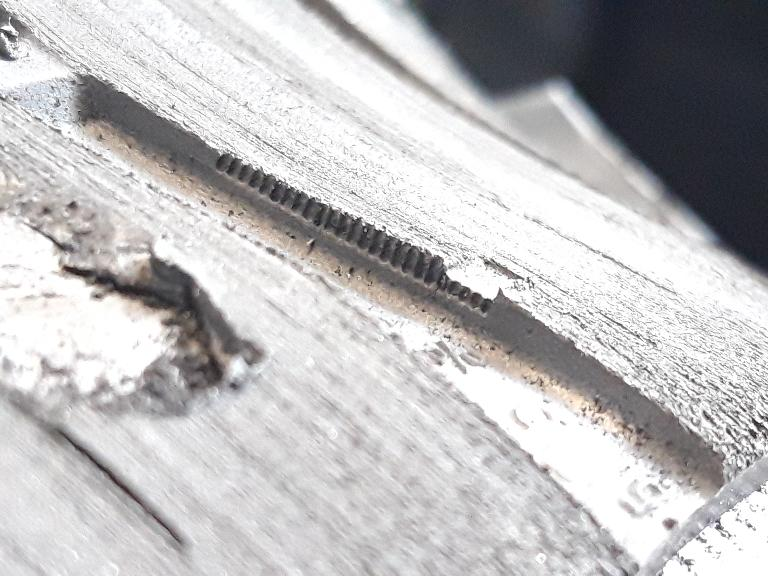temoin:0: (390, 207, 537, 329)
